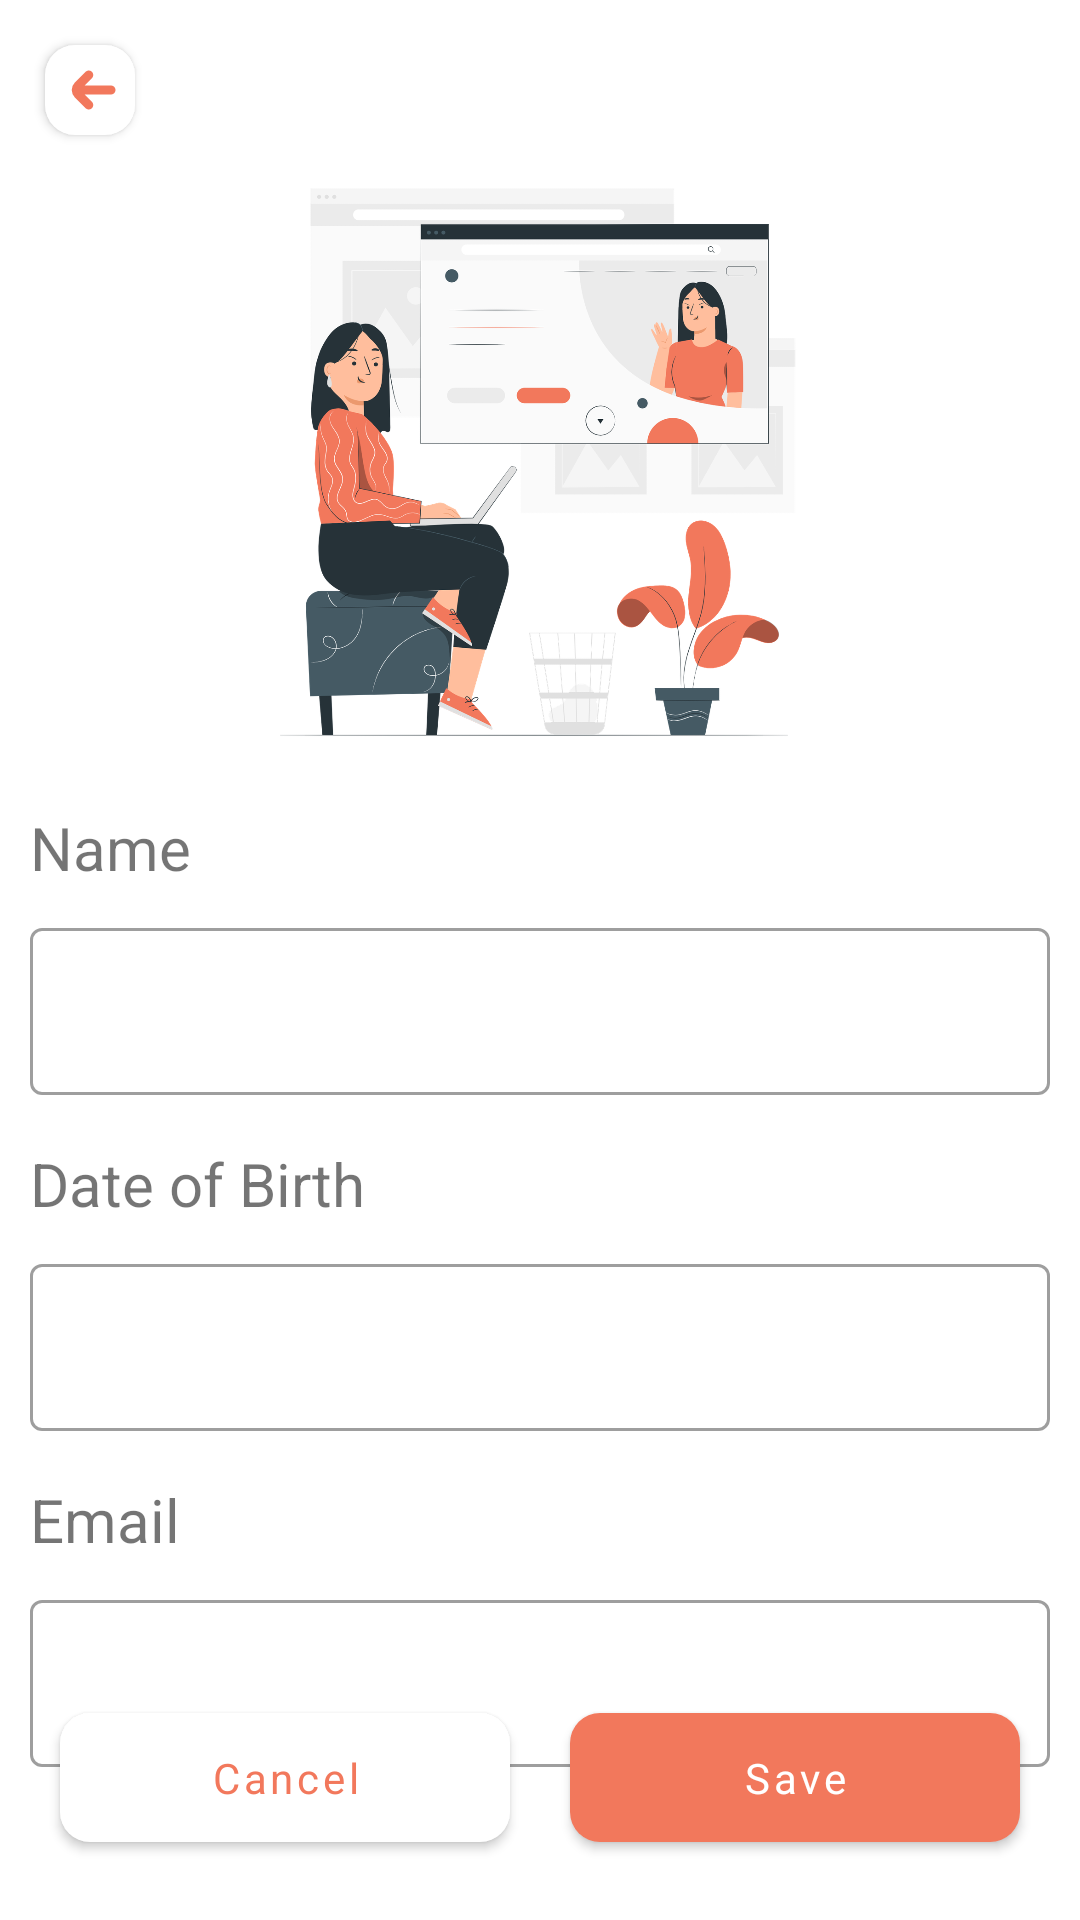

Icon bounding boxes for this 1080px x 1920px phone screenshot, format (x1, y1, x2, y2):
backarrow: (45, 45, 116, 135)
